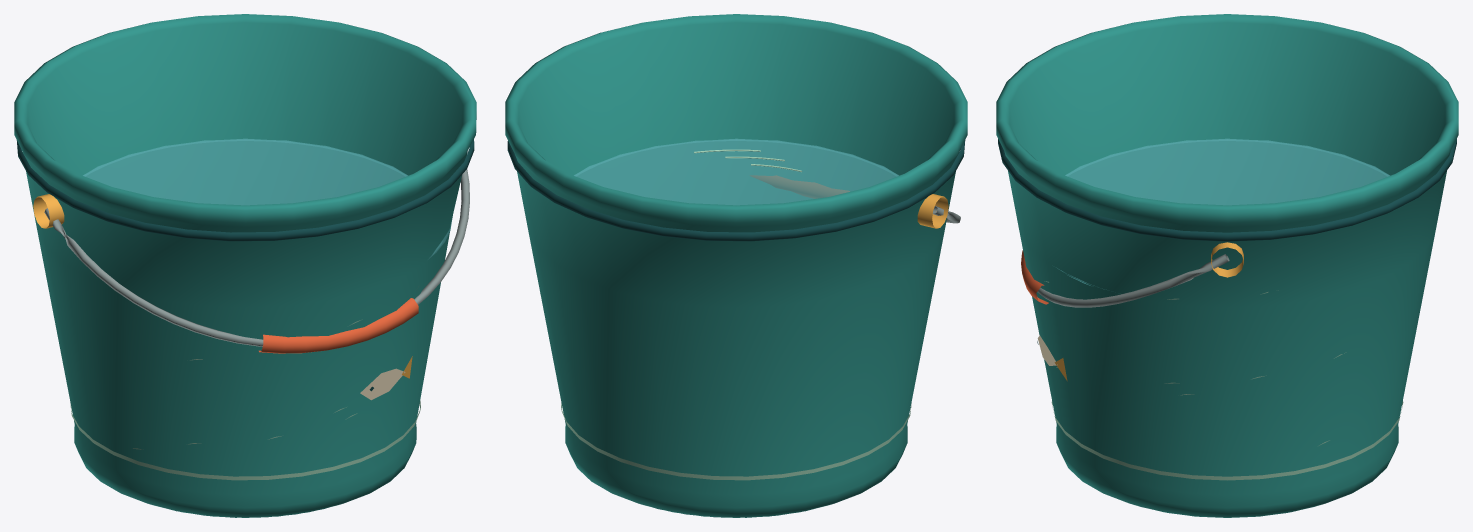
Rendered from bong_bucket.glb.
The picture shows the model from 3 angles, left to right: view 1: azimuth 30°, elevation 25°; view 2: azimuth 150°, elevation 25°; view 3: azimuth 270°, elevation 25°; orthographic projection.
Parts seen in each view (by area): view 1: Bucket, Water; view 2: Bucket, Water; view 3: Bucket, Water.
Part boxes in pixels (box(x1,y1,x2,y2)): Bucket: box(14, 14, 476, 517); Water: box(83, 138, 452, 259); Bucket: box(505, 14, 967, 517); Water: box(574, 138, 898, 205); Bucket: box(996, 14, 1458, 517); Water: box(1056, 138, 1389, 289).
Bounding box in the file's own units: 0.312 × 0.25 × 0.3063.
